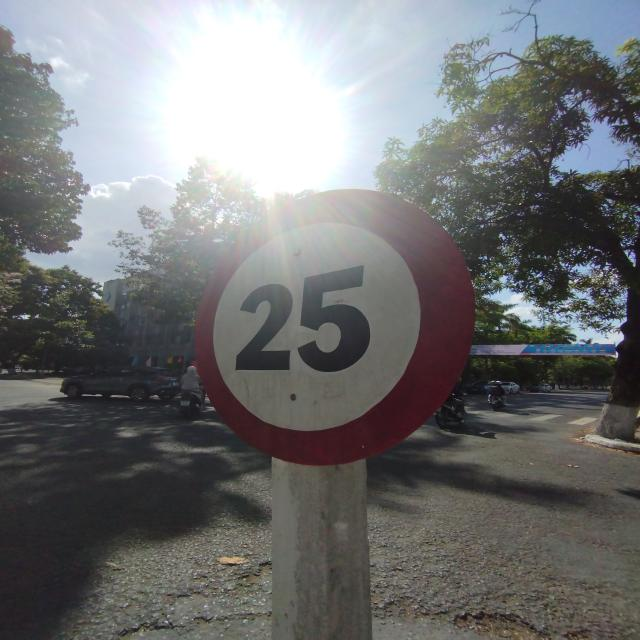Tre_Em: (191, 187, 484, 467)
